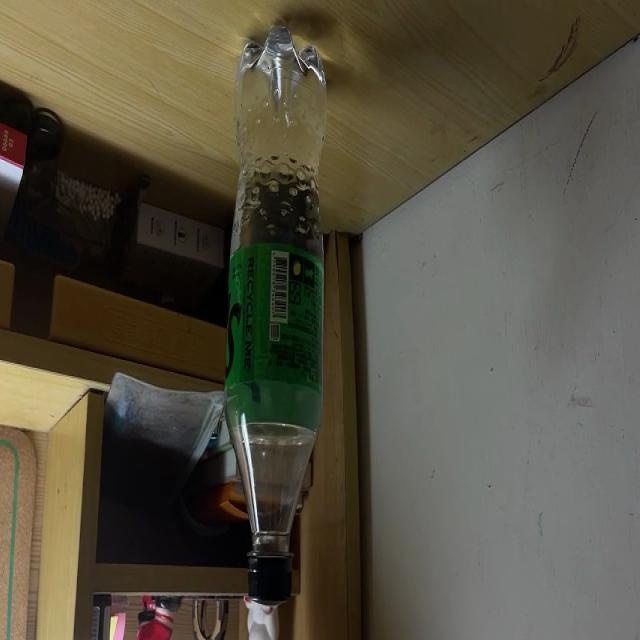Sprite: (225, 18, 325, 606)
